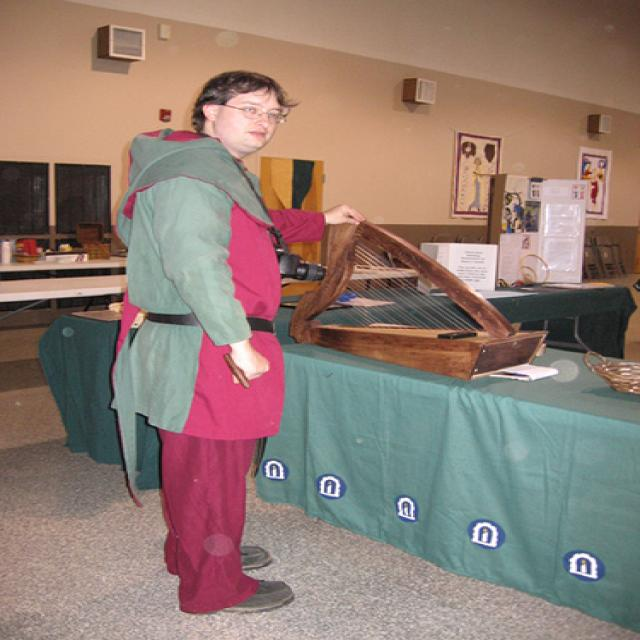harp: (274, 216, 548, 374)
